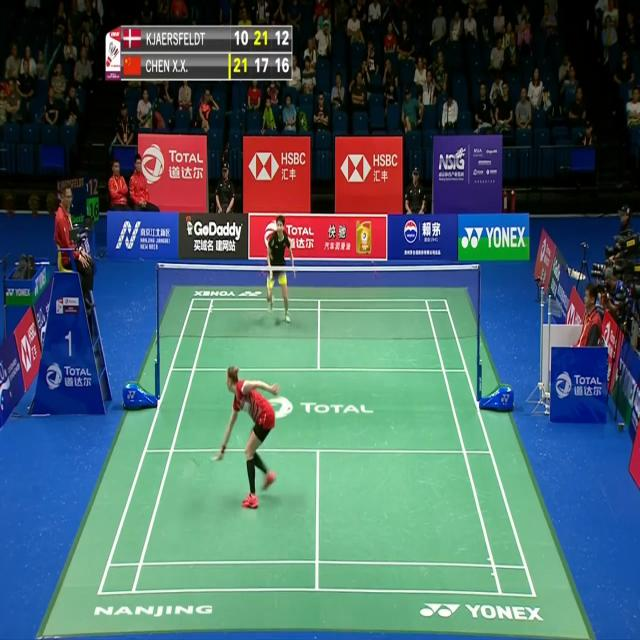Player1: (213, 364, 285, 516)
Player2: (261, 212, 297, 328)
